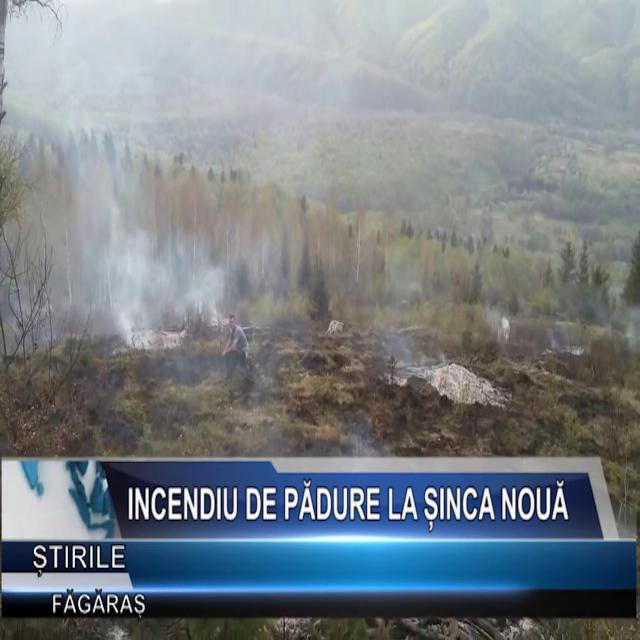Smoke: (47, 139, 214, 350)
